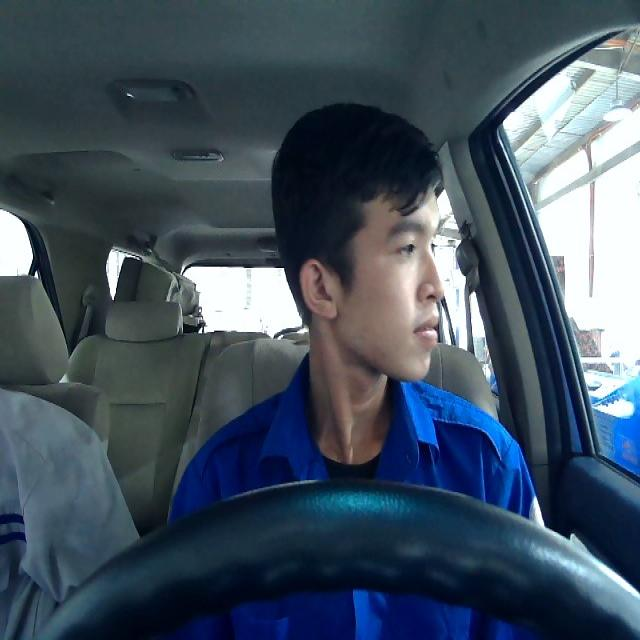seeing_right: (297, 181, 444, 384)
